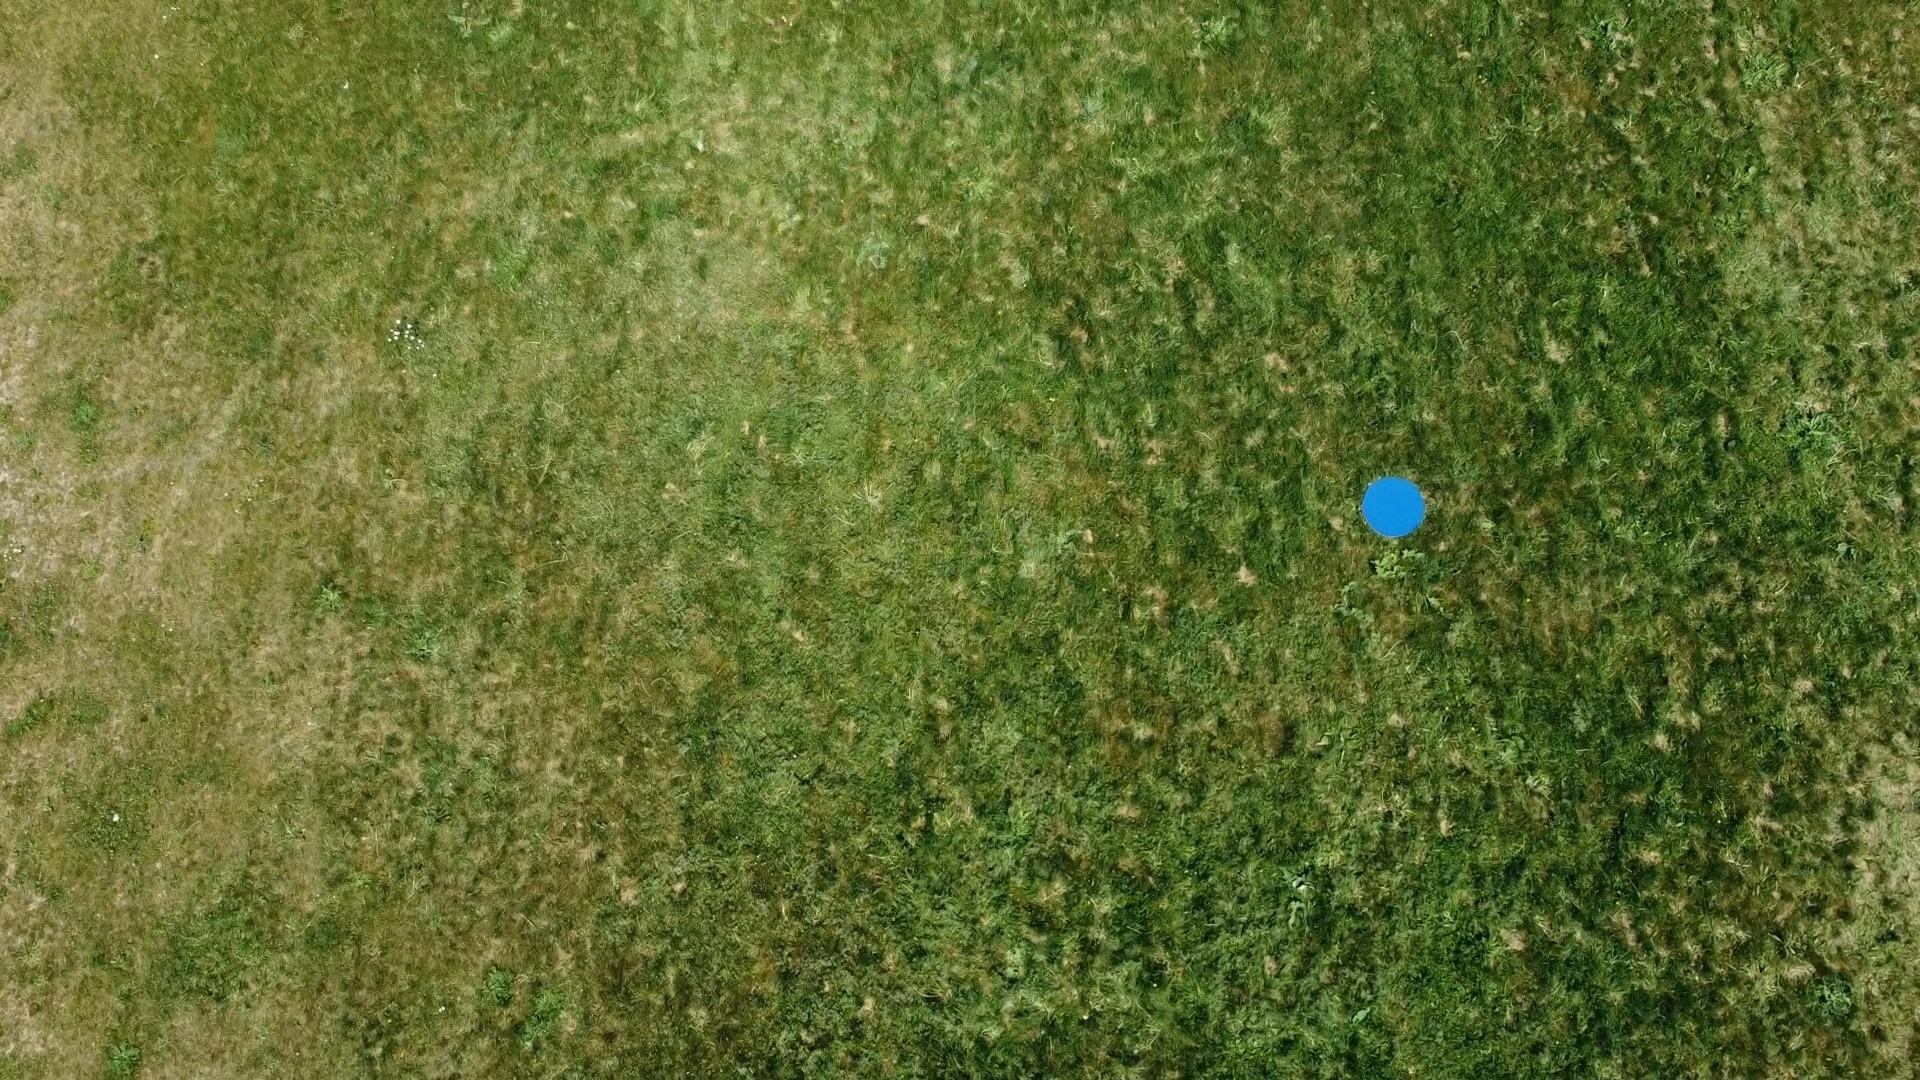Blue: (1358, 476, 1428, 539)
